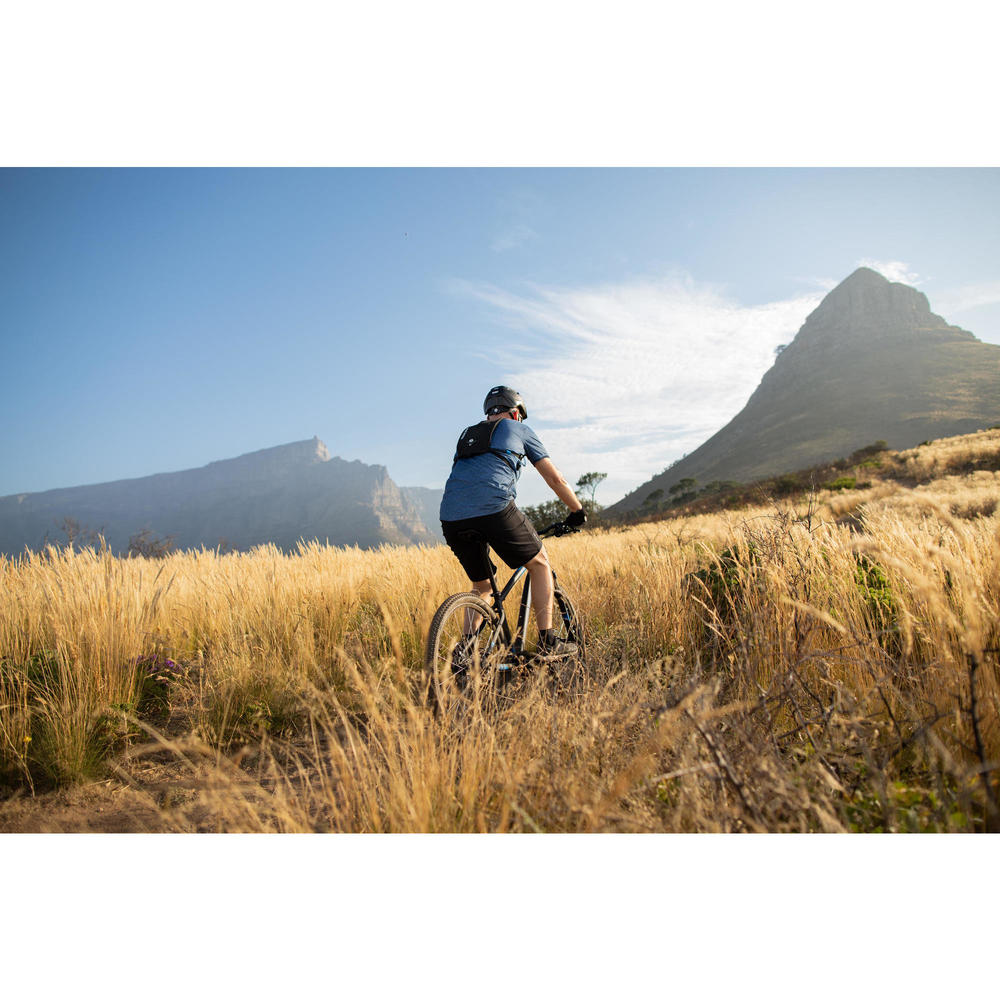MountainBike: (399, 508, 597, 723)
